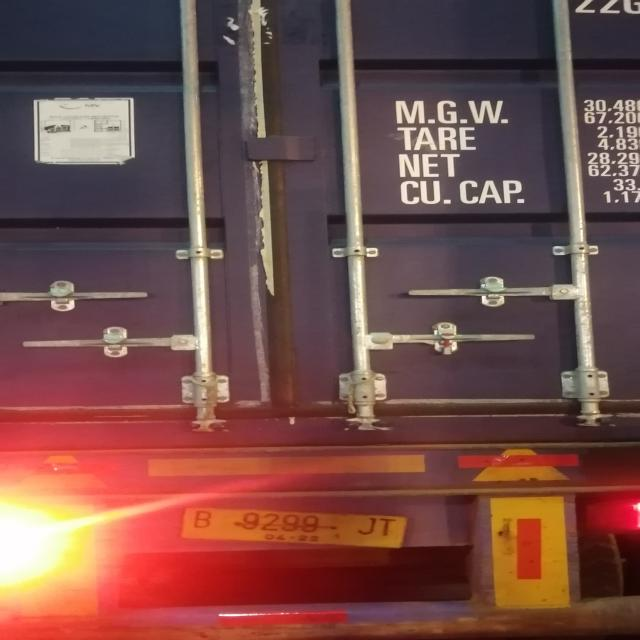seal: (438, 332, 460, 355)
